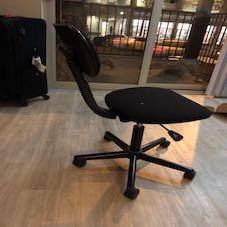chair: (42, 17, 221, 213)
